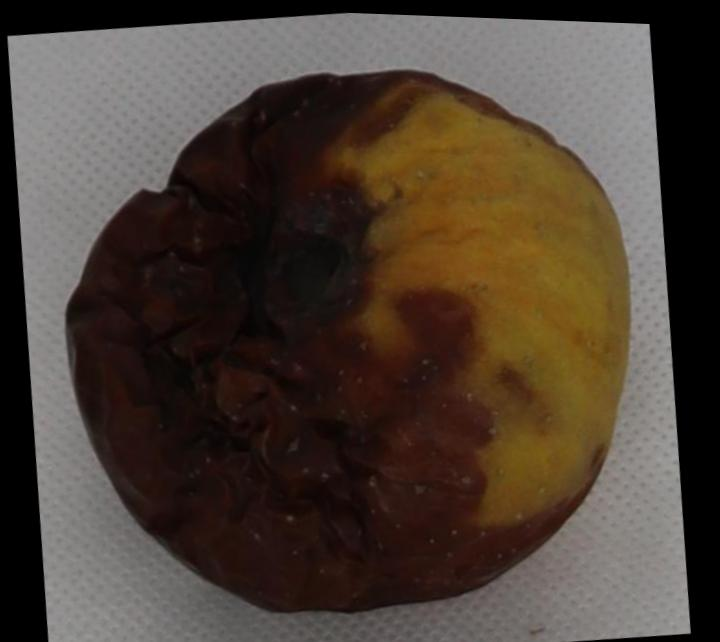apple: (65, 71, 627, 611)
rot_mold_decay: (65, 72, 598, 611)
